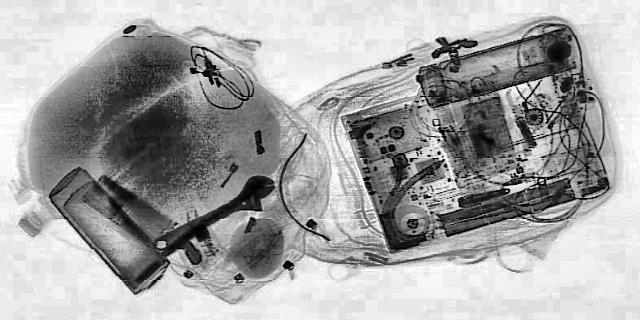Wrench: (130, 172, 294, 254)
